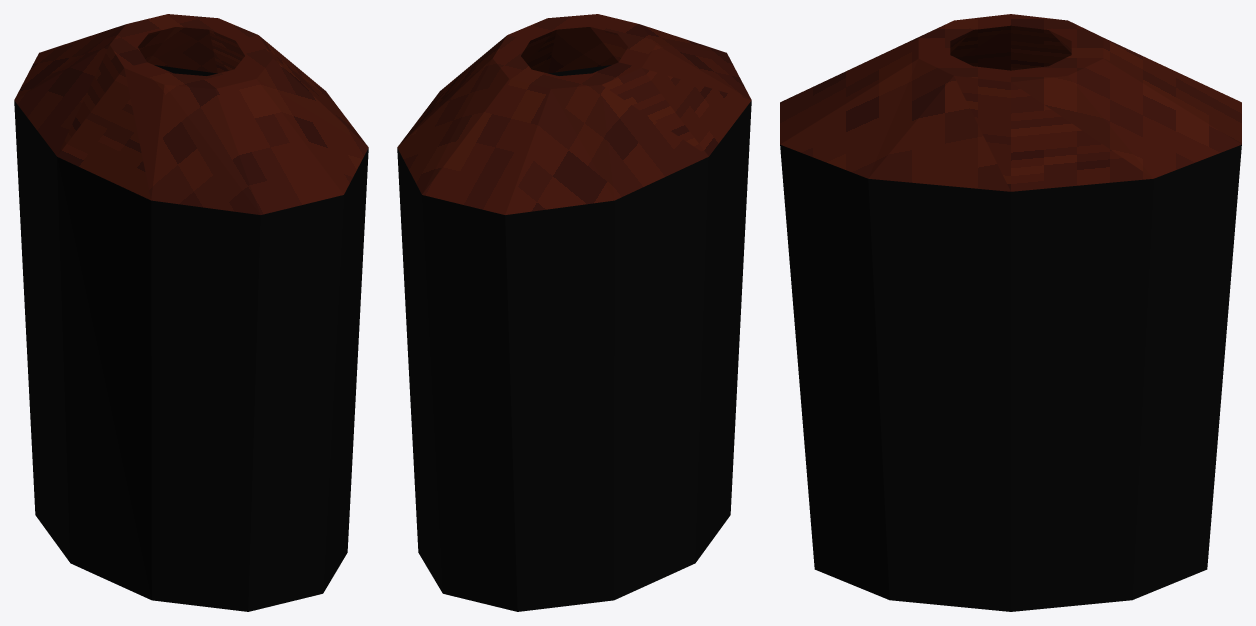
File: culto.glb
The picture shows the model from 3 angles, left to right: view 1: azimuth 30°, elevation 25°; view 2: azimuth 150°, elevation 25°; view 3: azimuth 270°, elevation 25°; orthographic projection. The views are drawn at different scales.
Visible parts, largest first — view 1: coraza, cuello; view 2: coraza, cuello; view 3: coraza, cuello.
Part boxes in pixels (left/top/right/bottom): coraza: left=14, top=65, right=368, bottom=611; cuello: left=14, top=14, right=368, bottom=214; coraza: left=397, top=65, right=751, bottom=611; cuello: left=397, top=14, right=751, bottom=214; coraza: left=780, top=144, right=1241, bottom=611; cuello: left=780, top=14, right=1241, bottom=191.
Size of the model in its own units: 0.35 by 0.6 by 0.5.
Materials: 1 (1 with a texture image).
